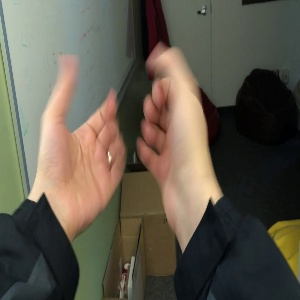hand: (40, 56, 126, 222), (136, 45, 208, 197)
